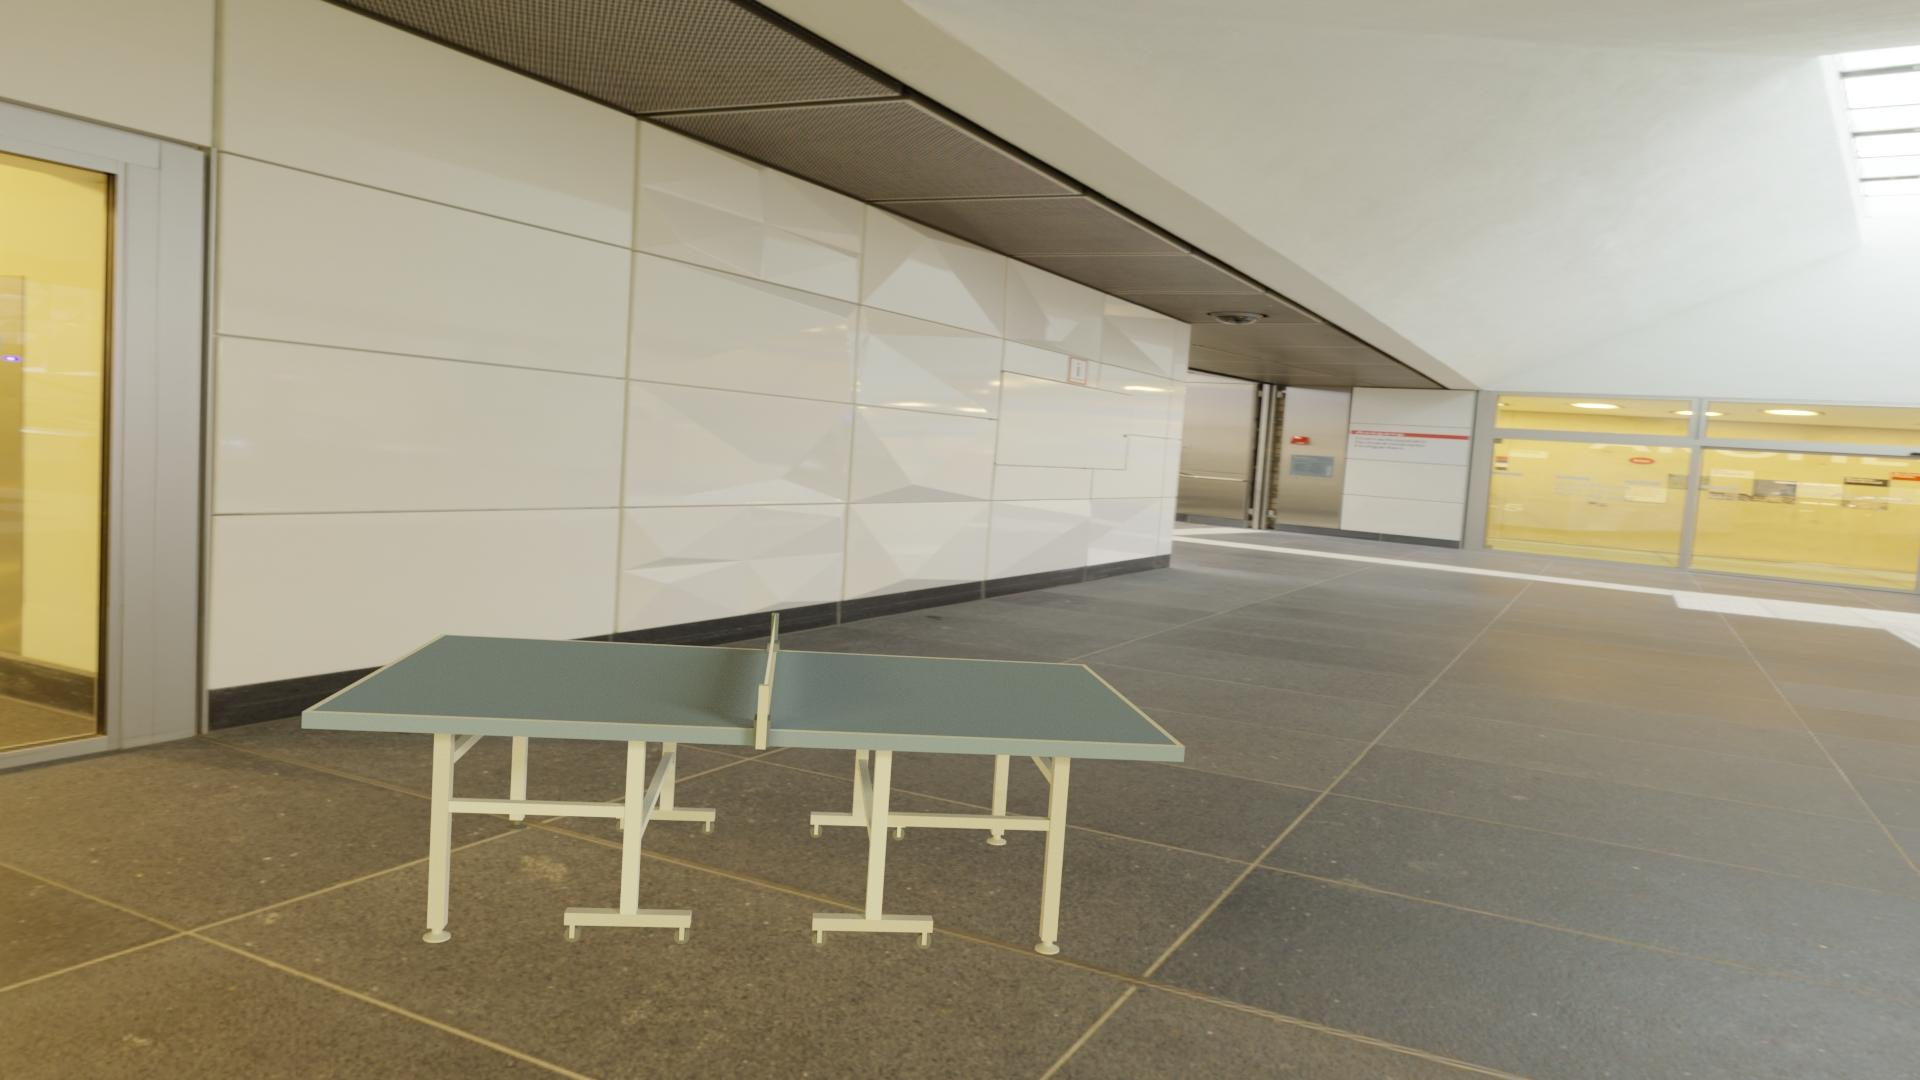table: (311, 636, 1178, 745)
